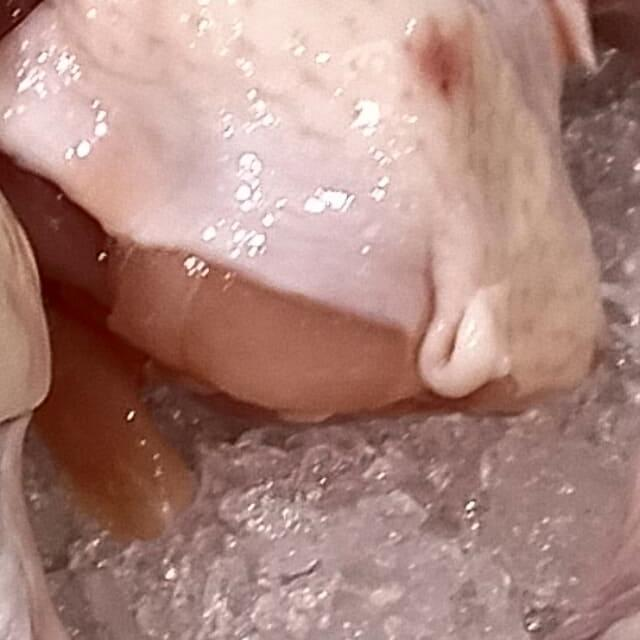chicken: (0, 0, 640, 421), (0, 0, 192, 640)
